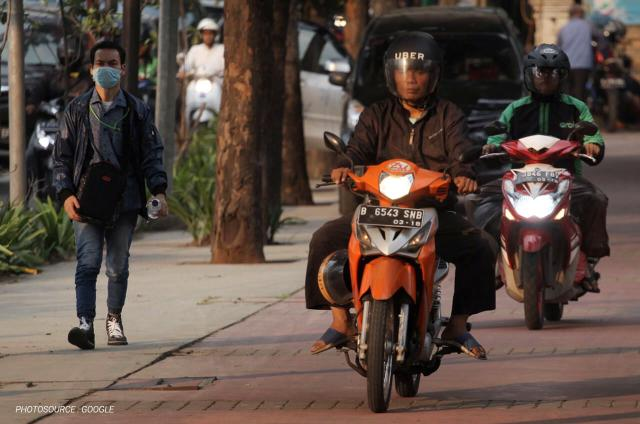helm: (384, 32, 445, 105), (524, 45, 576, 102)
motor: (315, 128, 487, 415), (480, 127, 609, 335)
